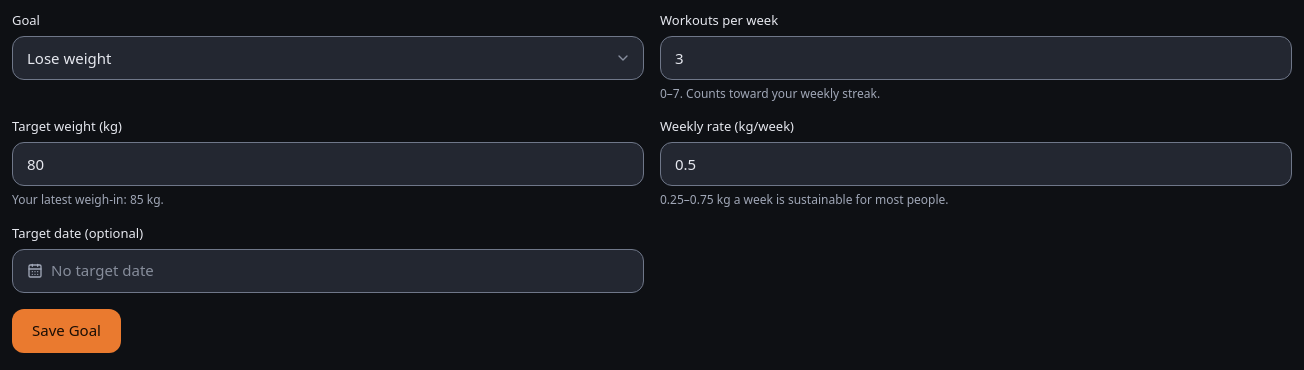
Test: GoalForm › rejects a Lose target above the latest weigh-in
The width and height of the screenshot is (1304, 370).
Expected: the text "Your latest weigh-in: 85 kg." is shown, left=12, top=191, right=164, bottom=208
Replace the text in the number field labelled "Target weight (kg)" with "90" at x=328, y=164, box left=12, top=142, right=644, bottom=186
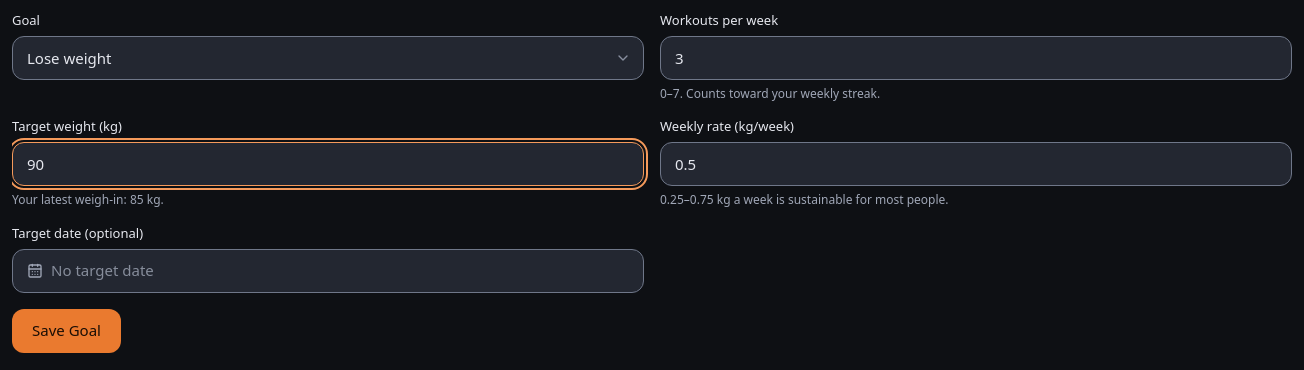
Click the button "Save Goal".
click(66, 331)  # box left=12, top=309, right=121, bottom=353
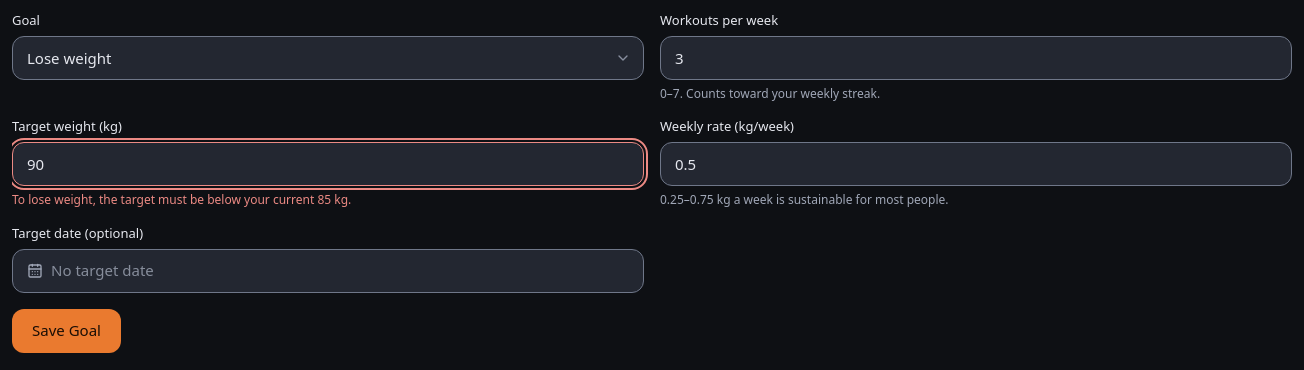
Result: the text "To lose weight, the target must be below your current 85 kg." is shown at left=12, top=191, right=351, bottom=208
